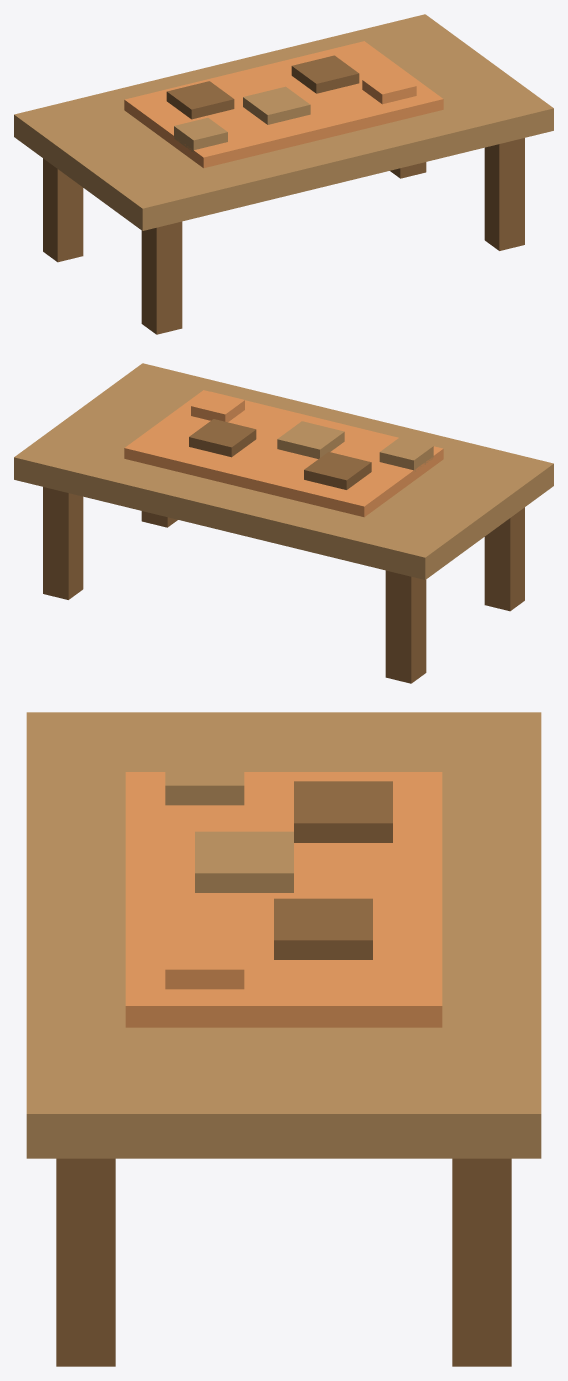
The model's file is puzzle_table.glb.
The picture shows the model from 3 angles, top to bottom: view 1: azimuth 30°, elevation 25°; view 2: azimuth 150°, elevation 25°; view 3: azimuth 270°, elevation 25°; orthographic projection. The views are drawn at different scales.
Parts seen in each view (by area): view 1: puzzle_table; view 2: puzzle_table; view 3: puzzle_table.
Part boxes in pixels (x1,y1,x2,y2): puzzle_table: (14,14,553,334); puzzle_table: (14,363,553,683); puzzle_table: (26,712,541,1366).
Size of the model in its own units: 48 by 17.7 by 26.
